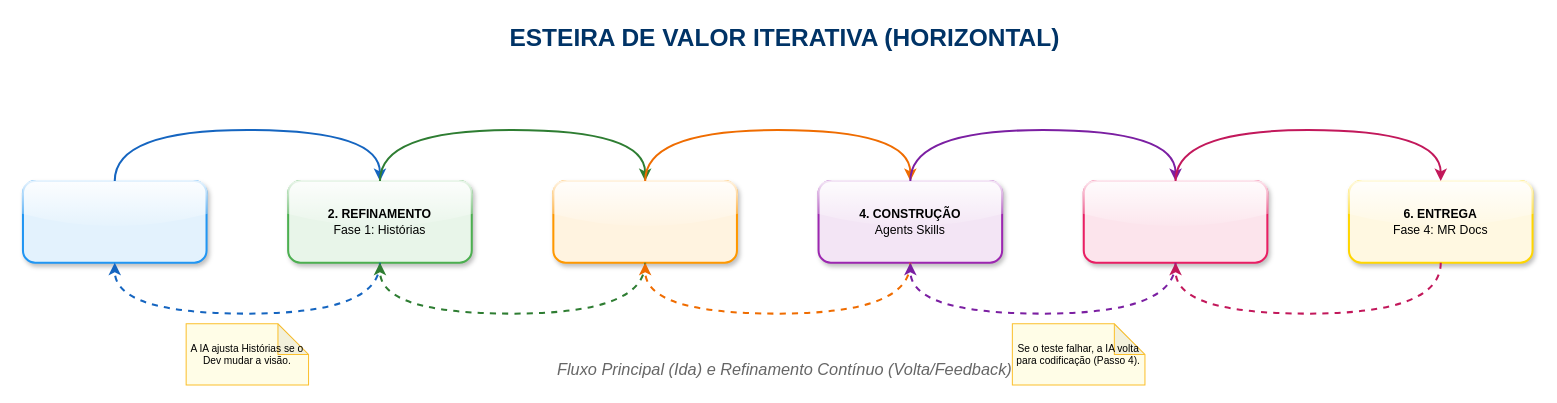
The diagram is 1557 pixels wide and 403 high, and some of its shapes have lost their labels. Each missing label, with the centre of its shape:
"1. ENTRADA Requisitos GitLab" belongs at [115,222].
"3. ARQUITETURA Instructions" belongs at [646,222].
"5. VALIDAÇÃO Fase 3: Testes" belongs at [1176,222].
